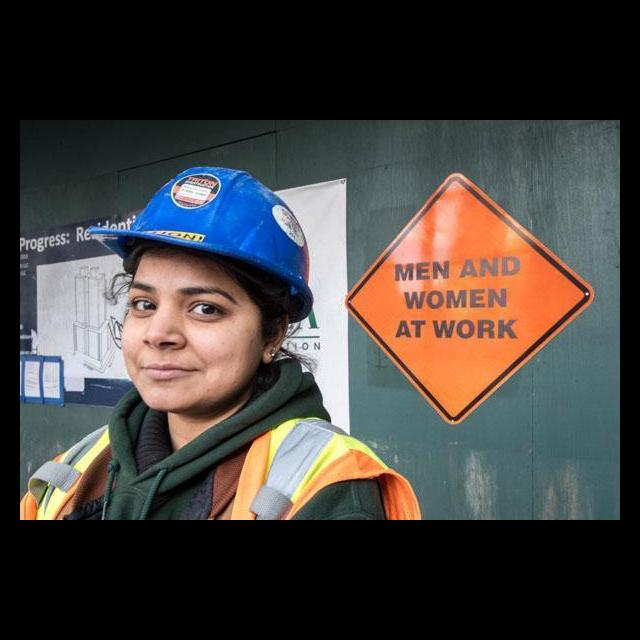Hardhat: (87, 166, 317, 322)
NO-Mask: (128, 349, 256, 412)
Person: (20, 165, 423, 520)
Safety Vest: (20, 418, 426, 520)
